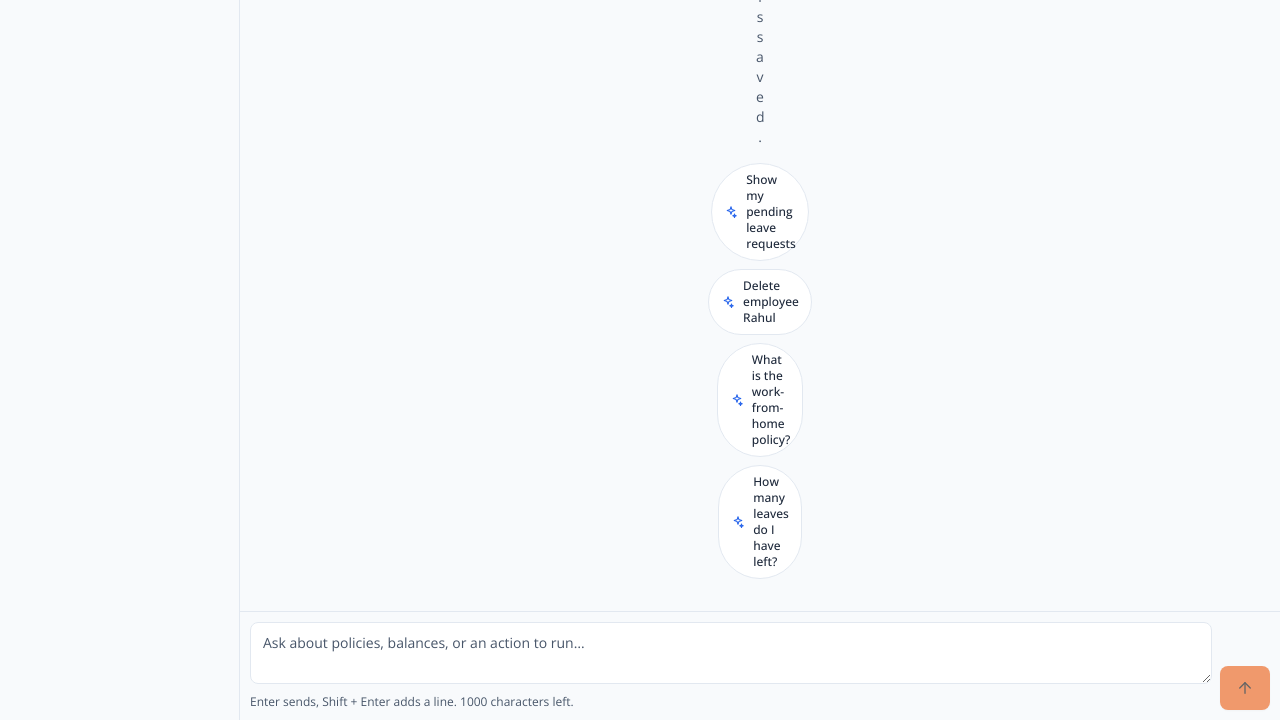
Test case: AI chat panel — PROJECT.md §17 scenarios › §17.4 blocks an unauthorized delete and never offers a confirm action
(page scrolled)
In the text box named "message the hr assistant": coordinates (731, 653) 250,622 -> 1212,684, type "Delete employee Rahul"
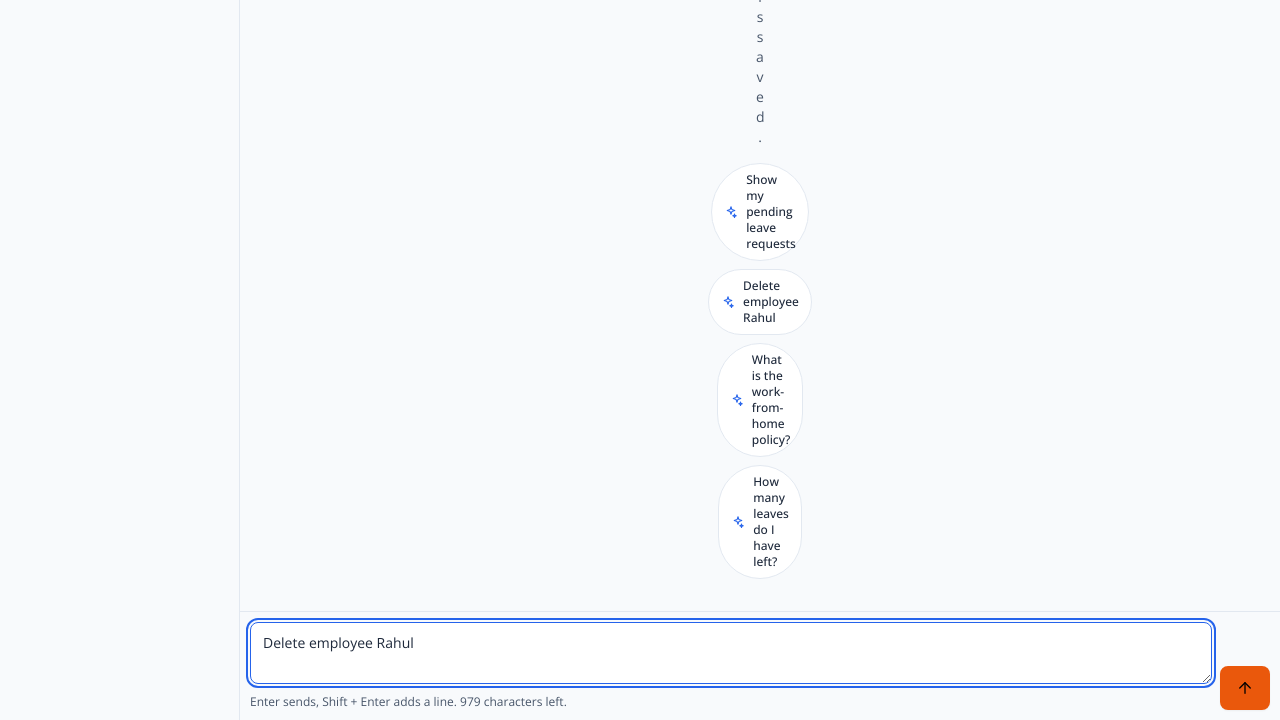
Click the button named "send message": coordinates (1245, 688) 1220,666 -> 1270,710
(page scrolled)
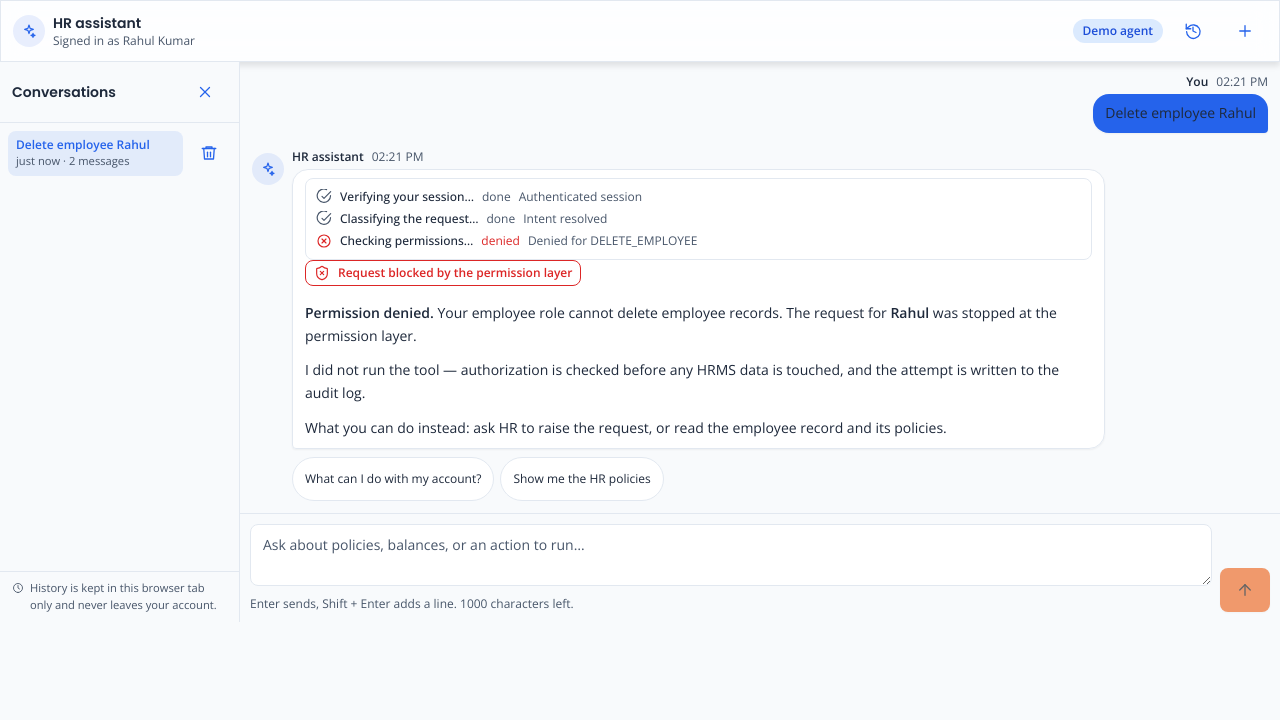
Expected: the text "Permission denied." is shown, 305,303 -> 434,322
Expected: the text "Request blocked by the permission layer" is shown, 305,260 -> 582,286
